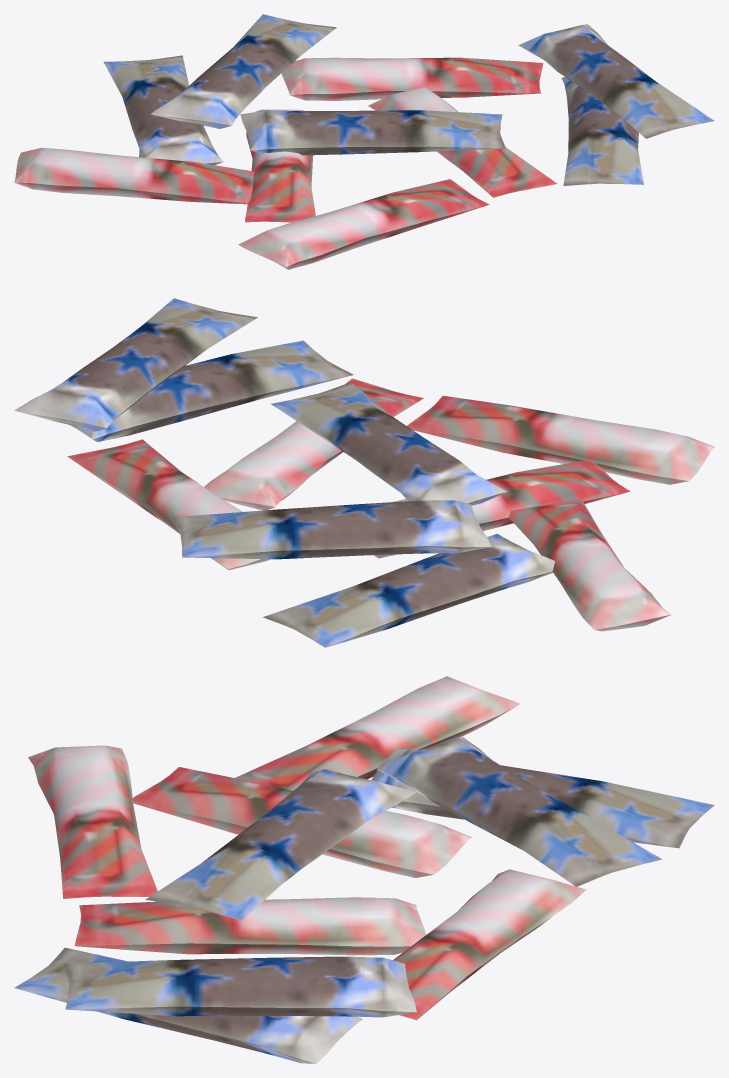
Rendered from icecandy01_set.fbx.
3 views of the same model, one above another, from view 1: azimuth 30°, elevation 25°; view 2: azimuth 150°, elevation 25°; view 3: azimuth 270°, elevation 25° (orthographic). The views are drawn at different scales.
Visible parts, largest first — view 1: icecandy01_set; view 2: icecandy01_set; view 3: icecandy01_set.
Part boxes in pixels (x1,y1,x2,y2): icecandy01_set: (14,14,714,269); icecandy01_set: (14,298,714,647); icecandy01_set: (14,676,714,1063).
Bounding box in the file's own units: 56.72 × 5.59 × 43.8.
